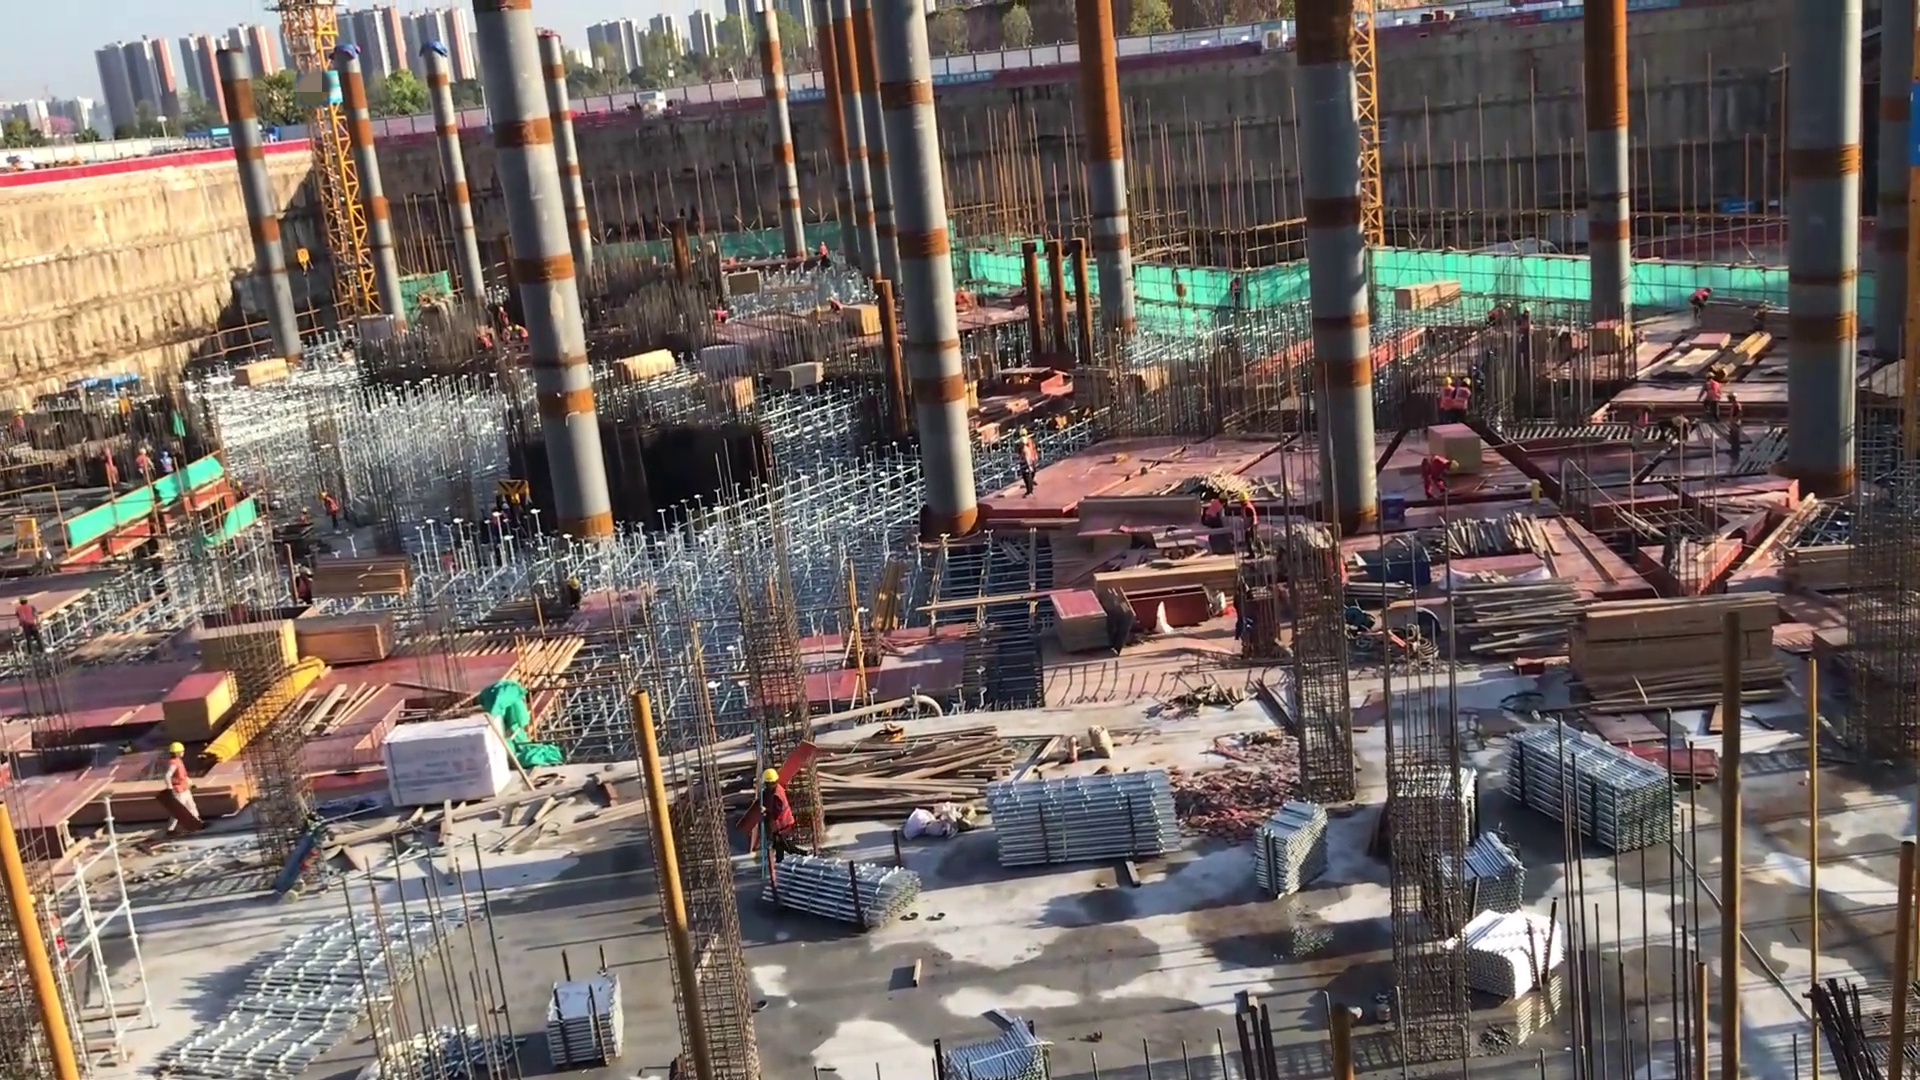board: (163, 666, 237, 746), (197, 620, 294, 681), (1609, 738, 1724, 790), (1049, 587, 1113, 657), (844, 301, 884, 335)
ebox: (19, 513, 48, 566)
helmet: (758, 767, 784, 793), (168, 740, 189, 765), (15, 592, 34, 608), (1448, 456, 1460, 476), (1238, 491, 1253, 507), (1725, 390, 1740, 404), (1461, 374, 1474, 389), (1441, 374, 1455, 389), (1019, 425, 1032, 438), (1220, 491, 1229, 507), (1705, 368, 1716, 380), (1704, 285, 1715, 295), (297, 566, 310, 575), (137, 446, 148, 456), (1019, 439, 1032, 447), (160, 450, 170, 459), (320, 490, 329, 500)
hook: (1359, 542, 1436, 595)
person: (755, 768, 808, 870), (164, 733, 204, 841), (13, 597, 49, 659), (1418, 453, 1462, 497), (1239, 486, 1264, 565), (1725, 389, 1747, 466), (1682, 280, 1716, 322), (1698, 367, 1722, 423), (1196, 491, 1228, 533), (291, 561, 316, 611), (1018, 429, 1040, 482), (319, 491, 343, 538), (1435, 374, 1457, 425), (1019, 439, 1039, 495), (1455, 376, 1472, 430), (134, 444, 153, 483), (156, 450, 179, 478), (514, 323, 530, 344), (818, 241, 832, 264), (497, 304, 510, 327)
scaffold: (1491, 712, 1682, 861), (988, 760, 1181, 880), (759, 853, 947, 924), (1247, 798, 1347, 905), (1431, 839, 1530, 929), (922, 1012, 1050, 1080)
slogan: (925, 67, 1004, 95), (1541, 5, 1586, 21), (791, 87, 834, 103), (1626, 1, 1674, 14)
vest: (768, 785, 797, 833), (167, 758, 194, 792), (1703, 379, 1722, 412), (1203, 499, 1225, 525), (17, 604, 38, 631), (1242, 504, 1263, 532), (1425, 453, 1448, 474), (1438, 387, 1455, 412), (135, 454, 153, 473), (1457, 388, 1470, 413), (324, 495, 340, 514)
wood: (1568, 594, 1788, 714), (803, 724, 1017, 823), (1452, 571, 1583, 669), (1778, 532, 1917, 596), (107, 773, 253, 832), (1095, 556, 1265, 604), (284, 610, 397, 668), (311, 553, 411, 600), (234, 348, 291, 402), (609, 342, 679, 386), (1391, 276, 1464, 315), (771, 360, 824, 397)
